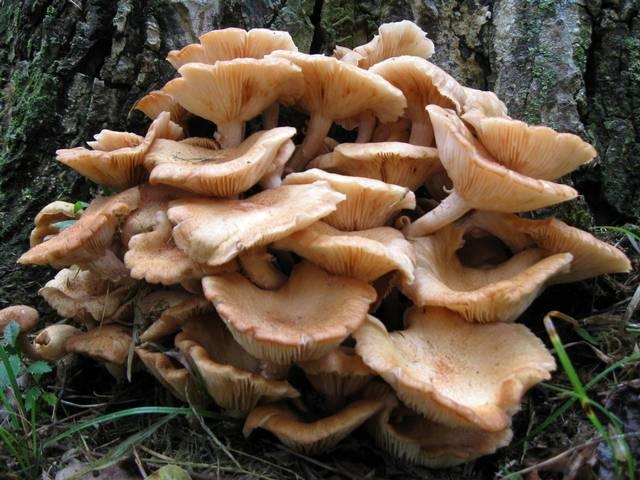edible_mushroom: (6, 18, 631, 468)
